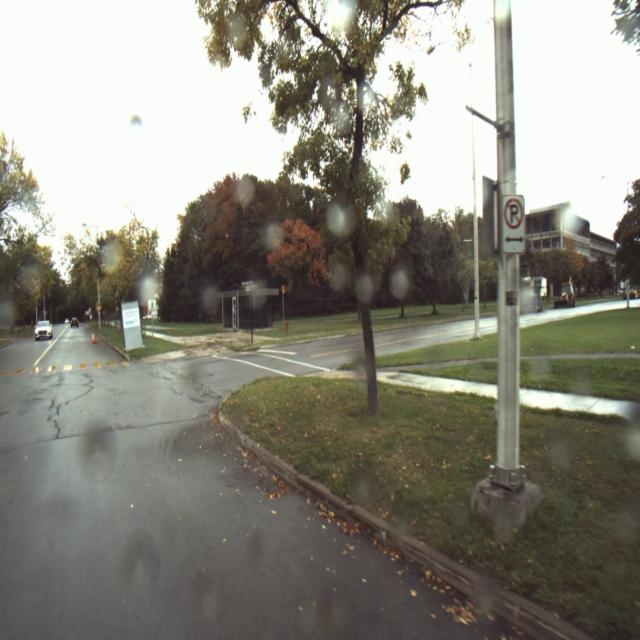car: (35, 317, 51, 339), (70, 312, 80, 328)
